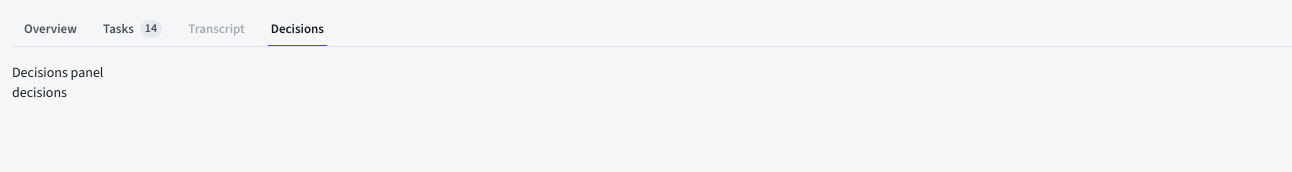
Test: Tabs › can be controlled
Click the tab "Tasks 14" at {"x": 132, "y": 29}, box 91,12 -> 174,46
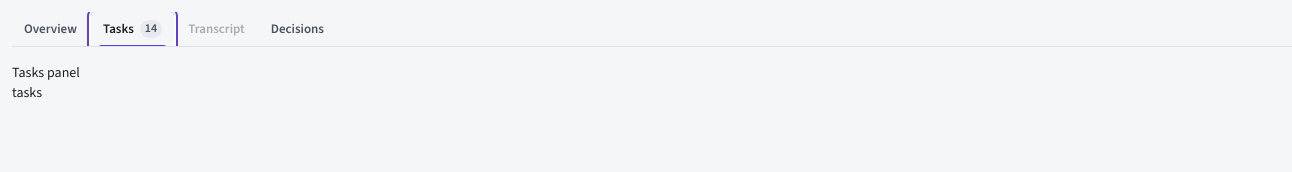
Expected: the text "tasks" is shown, 12,83 -> 42,102
